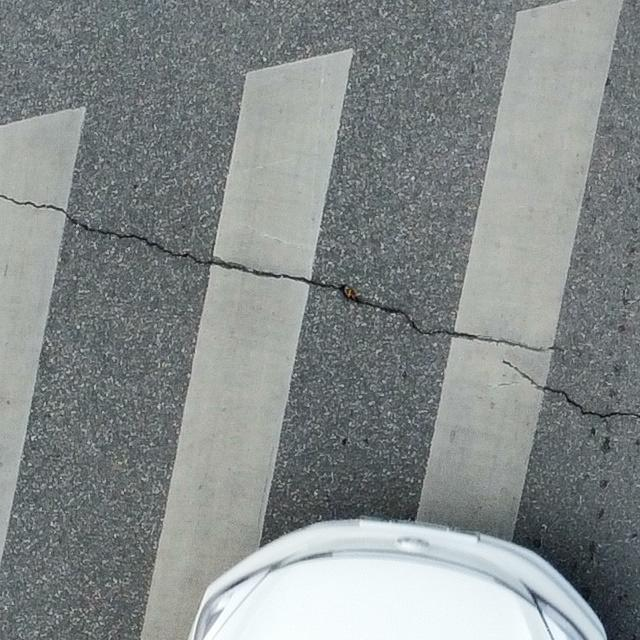TransverseCrack: (1, 194, 564, 352), (505, 358, 640, 421)
